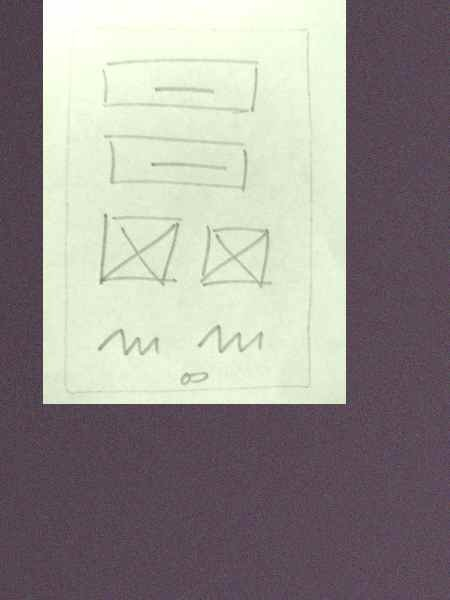button: (96, 54, 267, 118), (98, 129, 256, 195)
image: (94, 209, 183, 290), (197, 218, 280, 295)
switch: (172, 368, 217, 388)
text: (193, 316, 271, 360), (92, 324, 169, 362)
